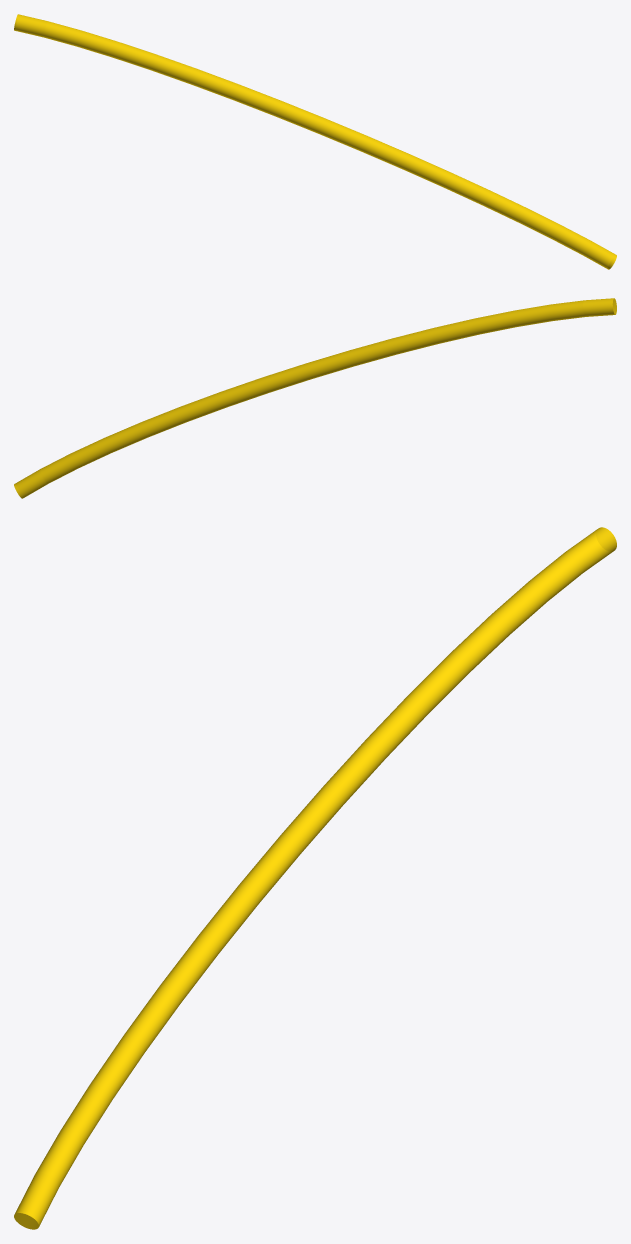
Rendered from Event_420604493_track_4.fbx.
3 renders of one model, top to bottom at view 1: azimuth 30°, elevation 25°; view 2: azimuth 210°, elevation 25°; view 3: azimuth 270°, elevation 25°, orthographic. The views are drawn at different scales.
Parts seen in each view (by area): view 1: Model; view 2: Model; view 3: Model.
Part boxes in pixels (<box>): Model: <box>14,14,616,269</box>; Model: <box>14,298,616,498</box>; Model: <box>14,527,616,1229</box>.
Size of the model in its own units: 1.17 by 0.5915 by 0.873.
